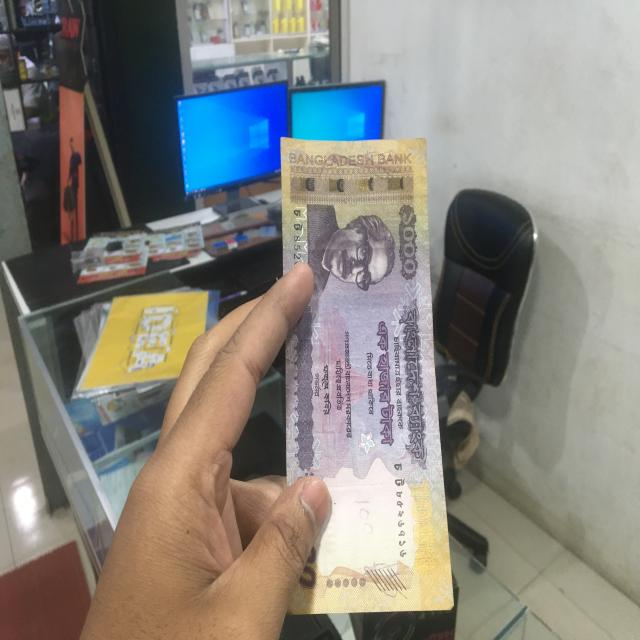Taka: (282, 134, 456, 617)
